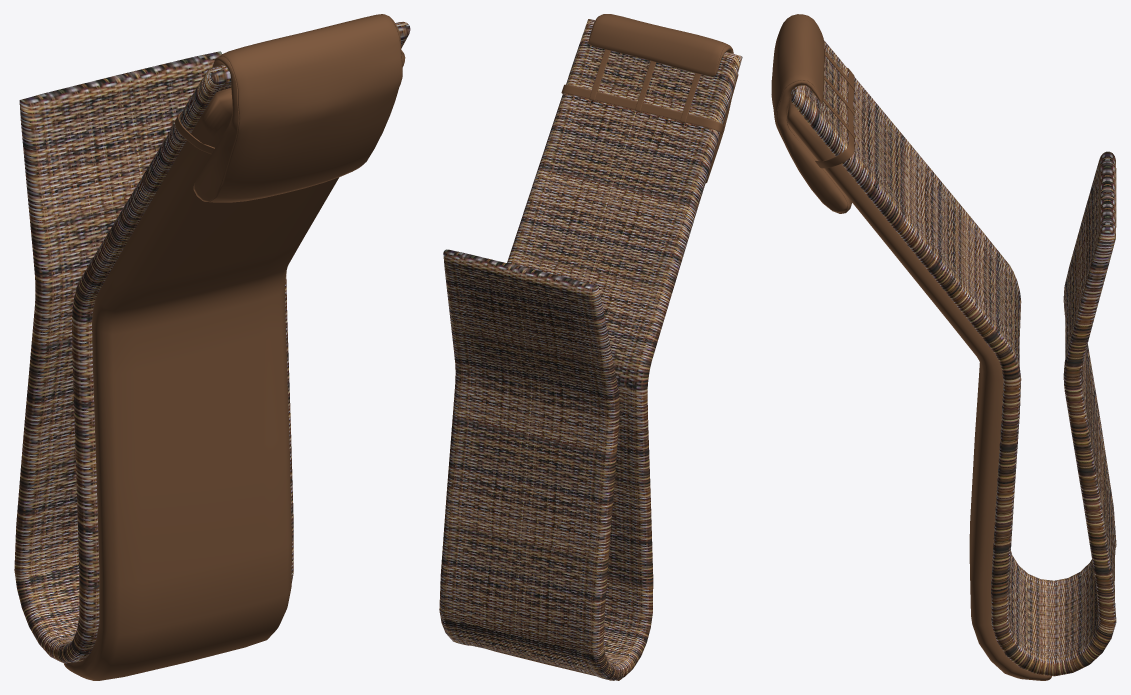
File: DeckchairL1.obj
3 views of the same model, side by side, from view 1: azimuth 30°, elevation 25°; view 2: azimuth 150°, elevation 25°; view 3: azimuth 270°, elevation 25° (orthographic). The views are drawn at different scales.
Parts seen in each view (by area): view 1: Cushion, Rattan; view 2: Rattan, Cushion; view 3: Rattan, Cushion.
Boxes of the visible parts, <box> form: Cushion: <box>64,14,405,680</box>; Rattan: <box>14,21,410,663</box>; Rattan: <box>439,19,742,680</box>; Cushion: <box>488,14,738,680</box>; Rattan: <box>791,14,1116,676</box>; Cushion: <box>771,14,1051,680</box>.
Size of the model in its own units: 23.92 by 78.4 by 40.66.
